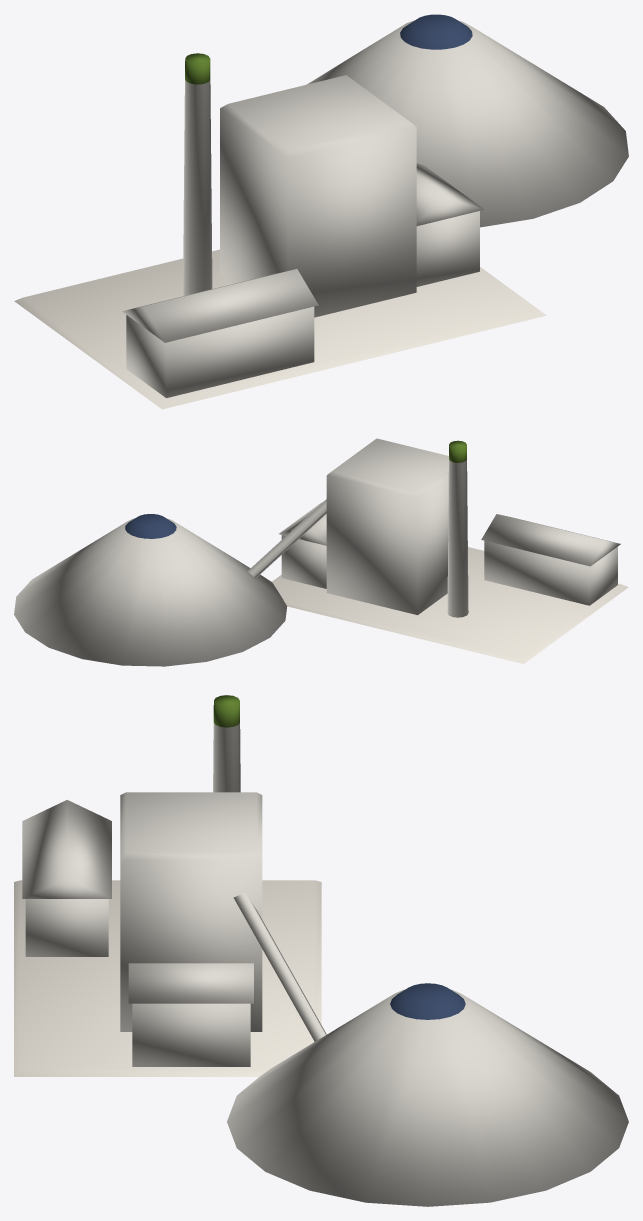
File: biomassa-cana.glb
The picture shows the model from 3 angles, top to bottom: view 1: azimuth 30°, elevation 25°; view 2: azimuth 150°, elevation 25°; view 3: azimuth 270°, elevation 25°; orthographic projection. The views are drawn at different scales.
Parts seen in each view (by area): view 1: biomassa-cana; view 2: biomassa-cana; view 3: biomassa-cana.
Boxes of the visible parts, x1,y1,x2,y2 form: biomassa-cana: (14, 14, 628, 409); biomassa-cana: (14, 438, 628, 666); biomassa-cana: (14, 695, 628, 1206).
Bounding box in the file's own units: 130 × 47.01 × 104.
